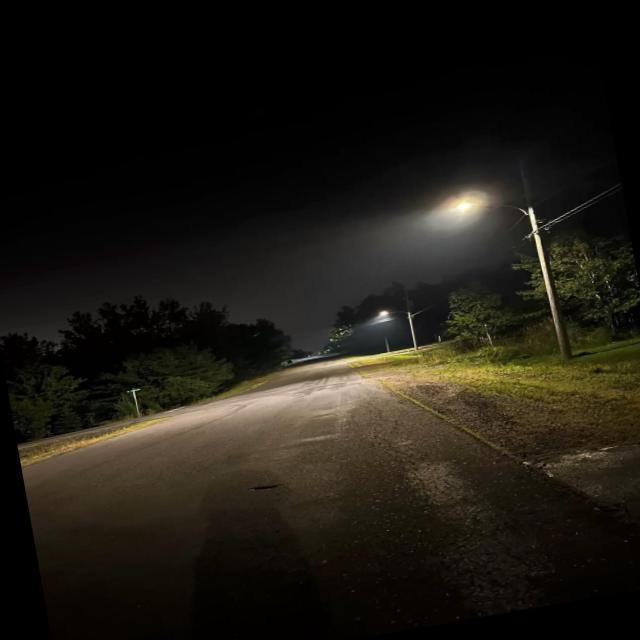on: (410, 153, 556, 286)
